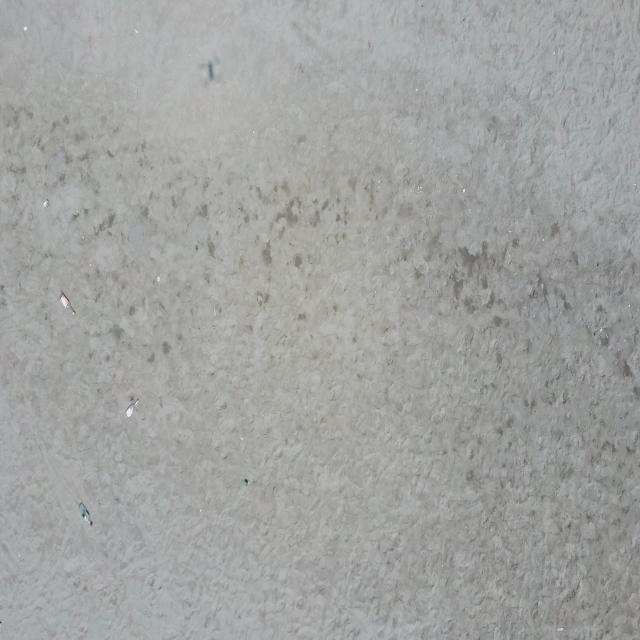glass: (60, 291, 76, 315), (78, 502, 92, 526), (126, 399, 140, 417), (43, 199, 50, 209)
